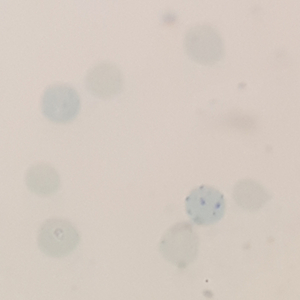aggregate reticulocyte: (183, 183, 229, 228)
erythrocyte: (180, 20, 227, 69), (36, 217, 83, 260), (39, 81, 83, 125), (82, 61, 125, 101), (230, 178, 275, 214), (21, 162, 61, 198)
punctate reticulocyte: (157, 222, 201, 268)
